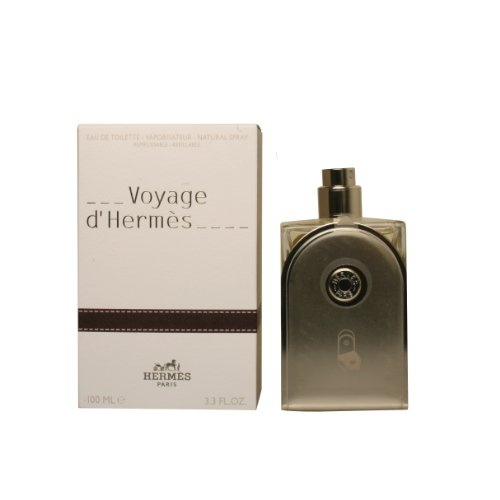HERMES: (139, 354, 198, 396)
